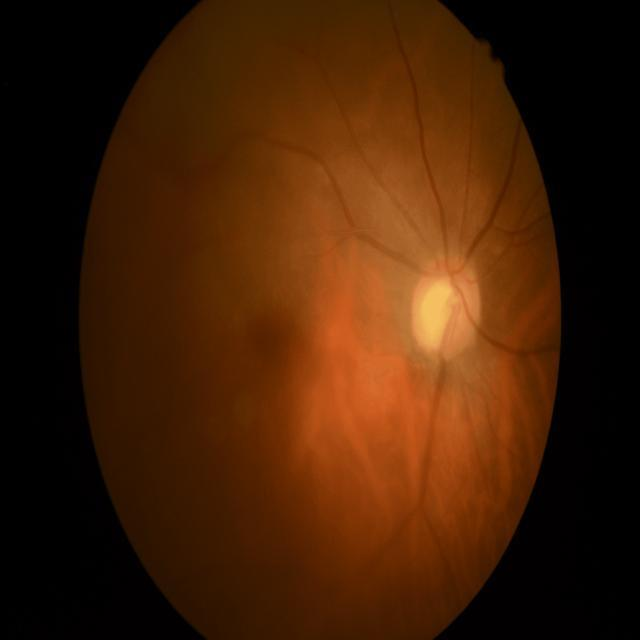cup: (420, 275, 466, 348)
disk: (411, 252, 483, 360)
